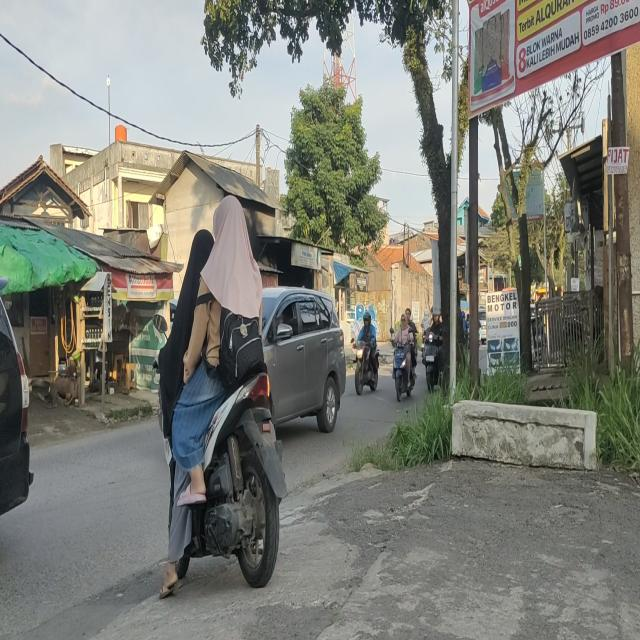helmet: (362, 311, 371, 327)
no-helmet: (213, 197, 247, 249), (184, 229, 213, 280), (400, 312, 408, 327), (404, 307, 412, 322)
